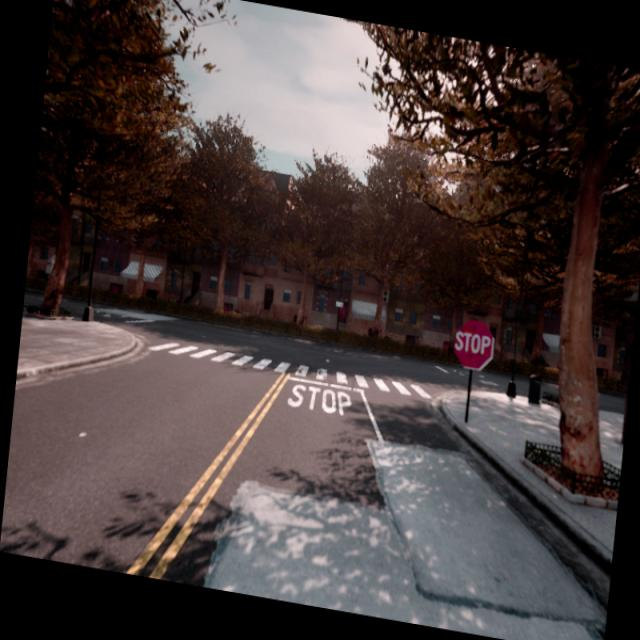stop sign: (451, 316, 496, 372), (454, 329, 492, 356)
